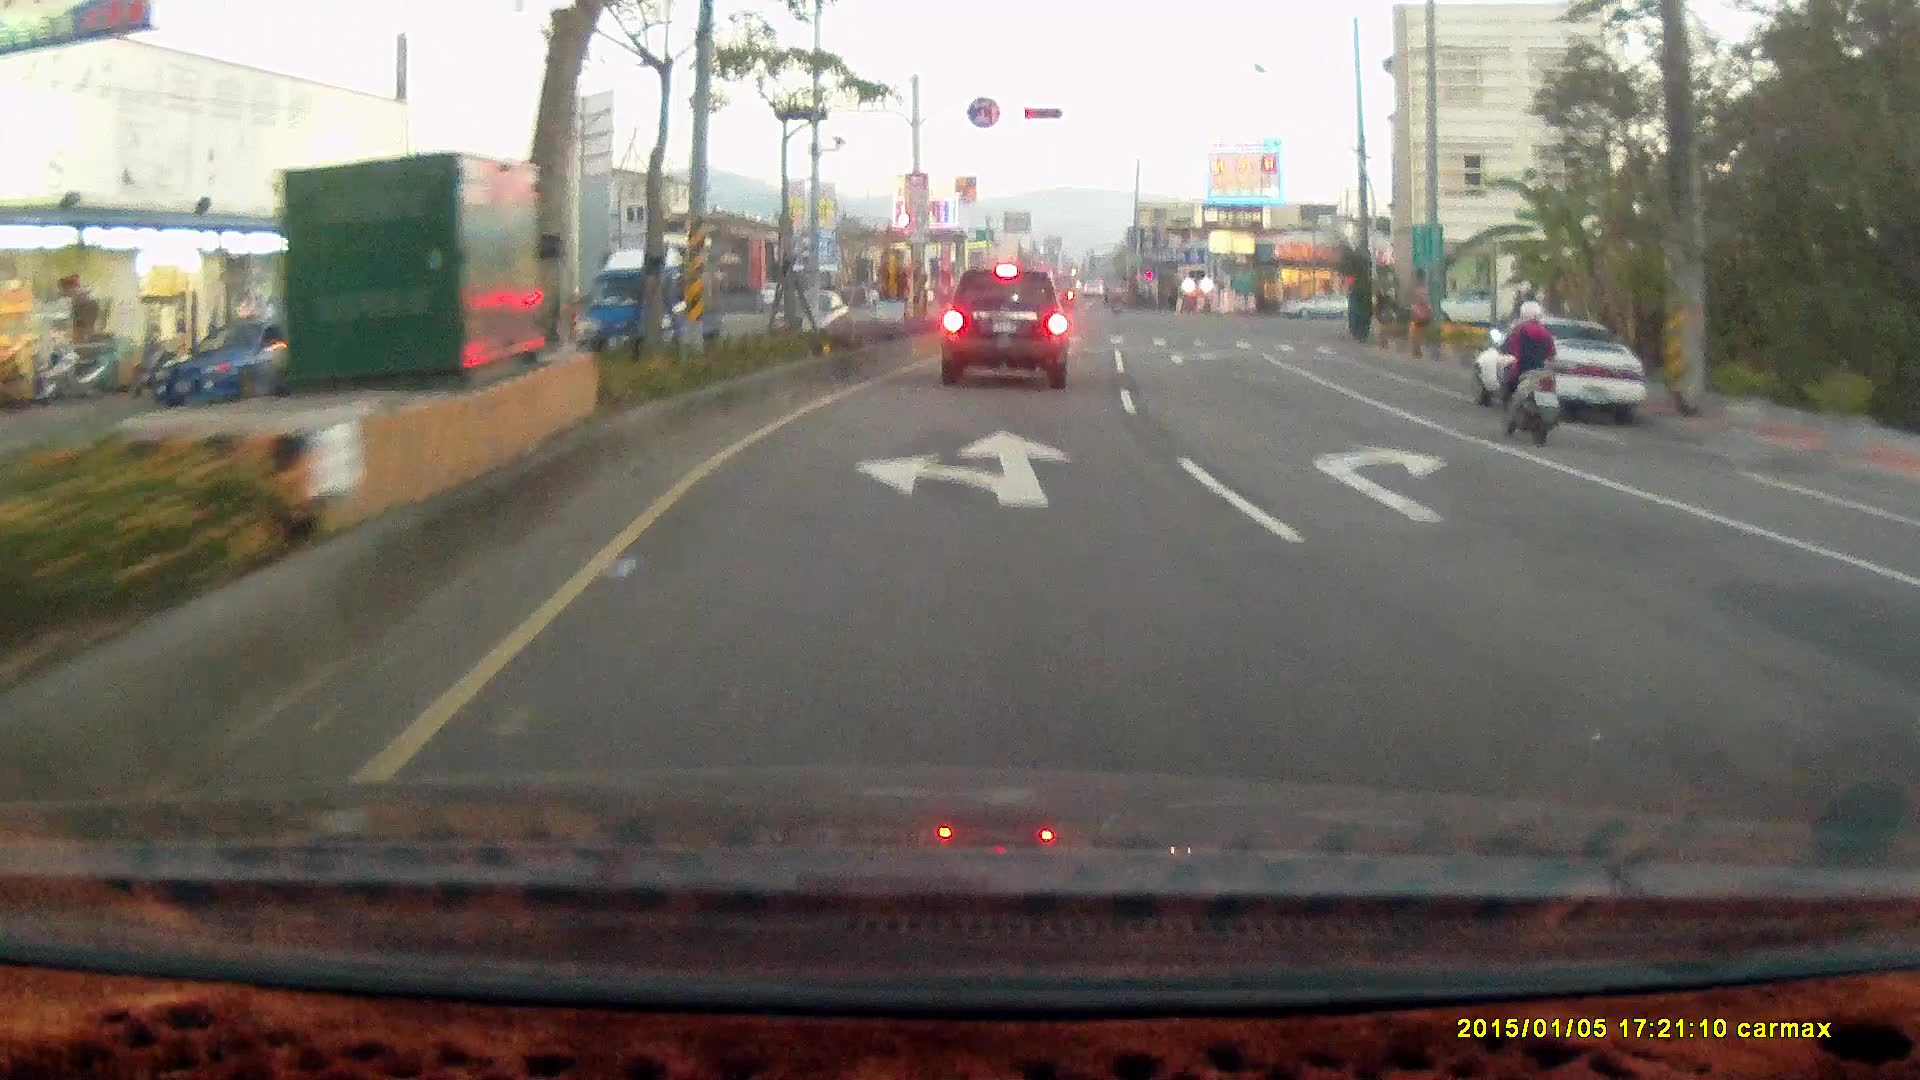rider: (1484, 300, 1563, 445)
vehicle: (1470, 314, 1646, 426), (575, 244, 727, 363), (1481, 323, 1653, 425), (939, 269, 1068, 389), (151, 330, 306, 404), (1896, 493, 1920, 836), (1883, 528, 1920, 690), (1423, 285, 1522, 331), (1278, 291, 1358, 319)
